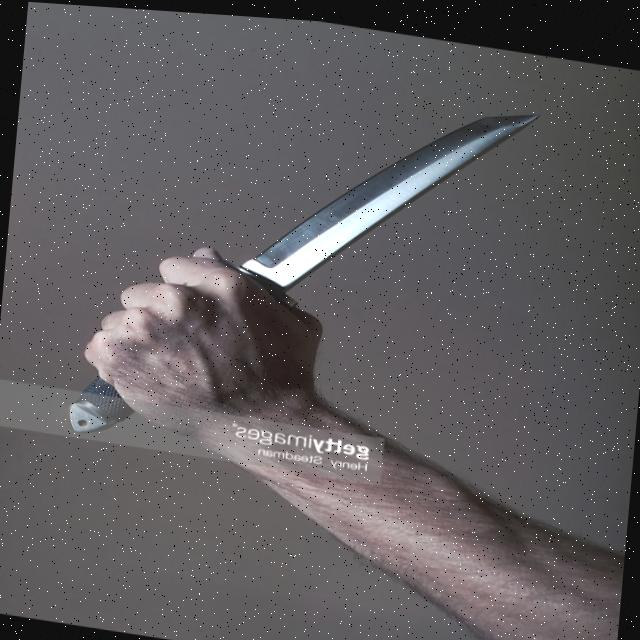knife: (208, 57, 542, 338)
